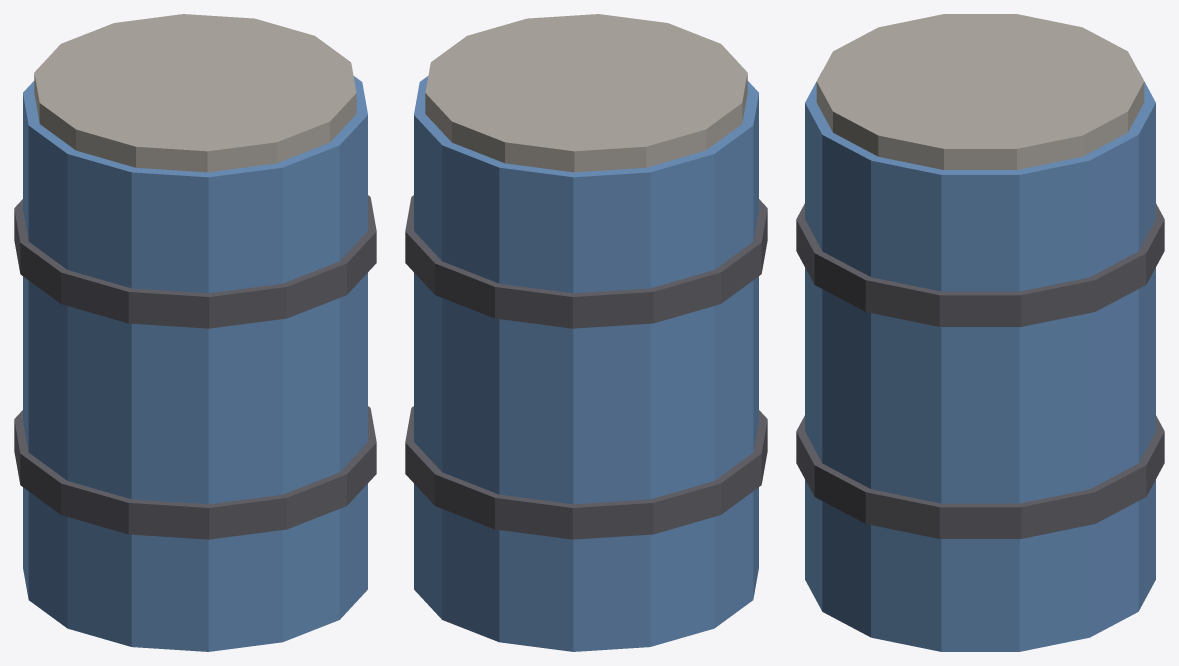
Rendered from bt-hw-barrel.glb.
3 views of the same model, side by side, from view 1: azimuth 30°, elevation 25°; view 2: azimuth 150°, elevation 25°; view 3: azimuth 270°, elevation 25° (orthographic).
Visible parts, largest first — view 1: bt-hw-barrel_body, bt-hw-barrel_lid, bt-hw-barrel_rib0.25, bt-hw-barrel_rib0.65; view 2: bt-hw-barrel_body, bt-hw-barrel_lid, bt-hw-barrel_rib0.25, bt-hw-barrel_rib0.65; view 3: bt-hw-barrel_body, bt-hw-barrel_lid, bt-hw-barrel_rib0.25, bt-hw-barrel_rib0.65.
Boxes of the visible parts, x1,y1,x2,y2 form: bt-hw-barrel_body: (23,76,367,651); bt-hw-barrel_lid: (34,14,356,172); bt-hw-barrel_rib0.25: (14,406,376,539); bt-hw-barrel_rib0.65: (14,195,376,328); bt-hw-barrel_body: (414,76,758,651); bt-hw-barrel_lid: (425,14,747,172); bt-hw-barrel_rib0.25: (405,406,767,539); bt-hw-barrel_rib0.65: (405,195,767,328); bt-hw-barrel_body: (805,72,1155,651); bt-hw-barrel_lid: (816,14,1144,169); bt-hw-barrel_rib0.25: (796,415,1164,538); bt-hw-barrel_rib0.65: (796,203,1164,326).
Bounding box in the file's own units: 0.6142 × 0.94 × 0.63.
